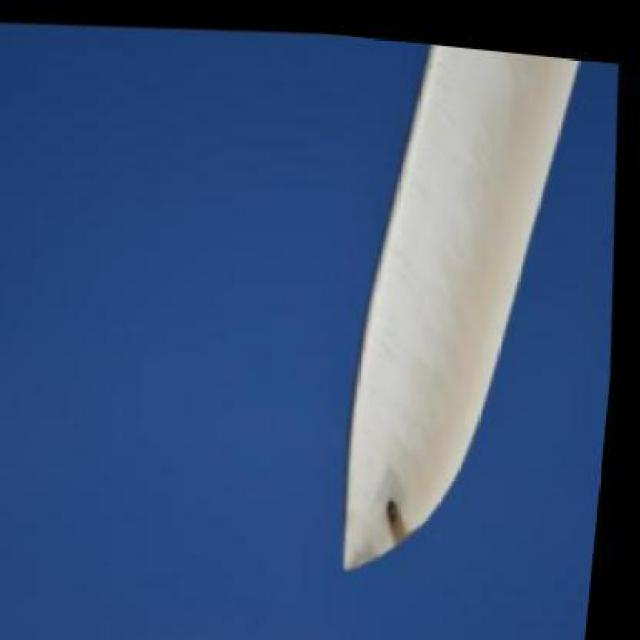Burn Mark: (380, 486, 418, 540)
